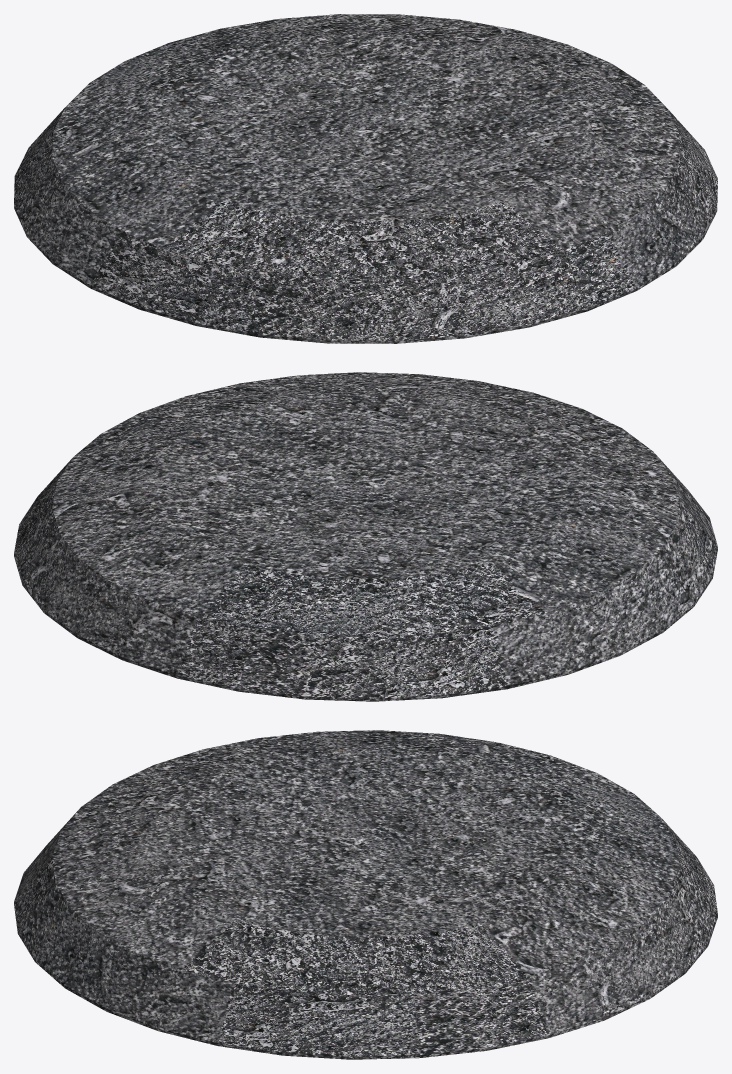
The model's file is ash.glb.
3 renders of one model, top to bottom at view 1: azimuth 30°, elevation 25°; view 2: azimuth 150°, elevation 25°; view 3: azimuth 270°, elevation 25°, orthographic.
Visible parts, largest first — view 1: AshMesh; view 2: AshMesh; view 3: AshMesh.
Part boxes in pixels (x1,y1,x2,y2): AshMesh: (14,14,717,343); AshMesh: (14,372,717,701); AshMesh: (14,730,717,1059).
Size of the model in its own units: 0.0601 by 0.0063 by 0.0601.
Materials: 1 (1 with a texture image).
